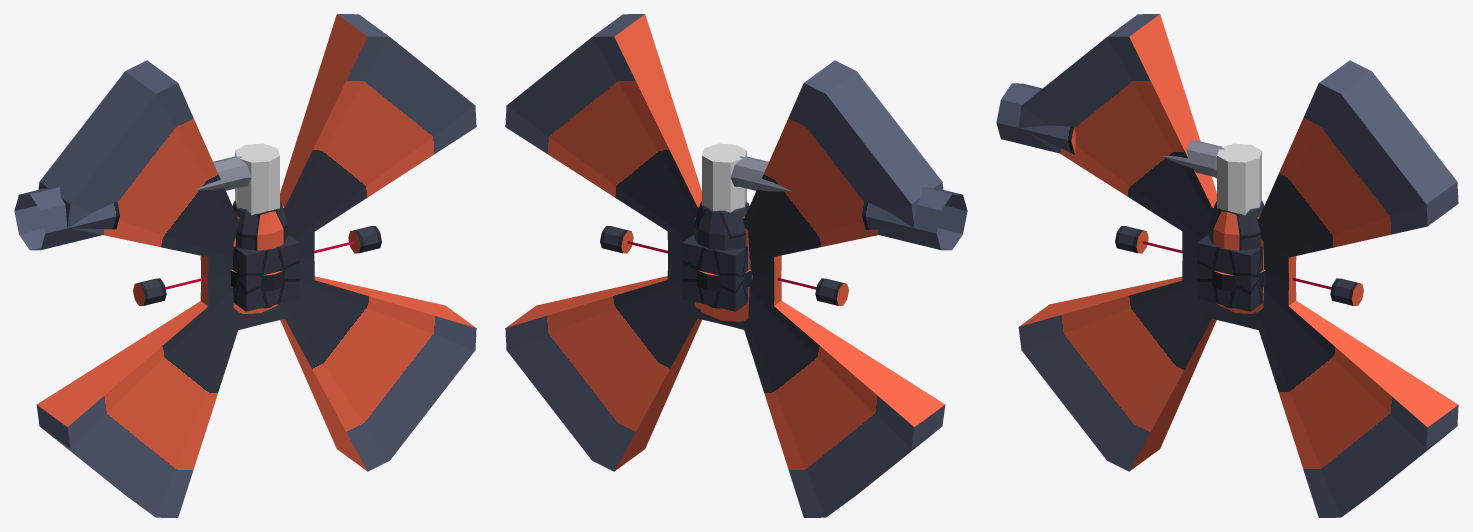
Rendered from obstacles.glb.
The picture shows the model from 3 angles, left to right: view 1: azimuth 30°, elevation 25°; view 2: azimuth 150°, elevation 25°; view 3: azimuth 330°, elevation 25°; orthographic projection.
Visible parts, largest first — view 1: turbine, pipe_side, crate, pylon, laser, glass, glass_part_0; view 2: turbine, pipe_side, crate, pylon, glass, laser, wall_part; view 3: turbine, pipe_side, crate, pylon, glass, laser, glass_part_0.
Boxes of the visible parts, x1,y1,x2,y2 form: turbine: (36,14,476,517); pipe_side: (14,156,251,250); crate: (233,234,299,311); pylon: (231,201,287,291); laser: (133,226,381,305); glass: (235,143,279,196); glass_part_0: (237,179,279,215); turbine: (505,14,945,517); pipe_side: (730,156,967,250); crate: (682,234,748,311); pylon: (694,201,751,291); glass: (702,143,746,202); laser: (600,226,848,305); wall_part: (694,205,749,324); turbine: (1018,14,1458,517); pipe_side: (996,83,1224,178); crate: (1197,234,1262,311); pylon: (1209,201,1265,291); glass: (1217,143,1261,196); laser: (1115,226,1363,305); glass_part_0: (1217,177,1259,215).
Size of the model in its own units: 16.12 by 15.54 by 2.24.
11 materials, 10 textured.
